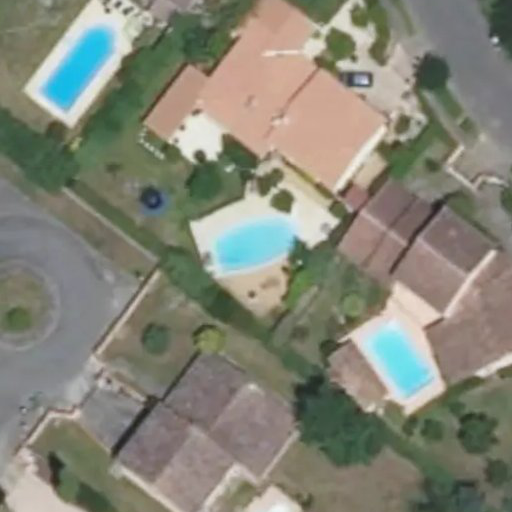pool: (38, 24, 117, 114), (215, 214, 299, 273), (368, 324, 432, 400)
